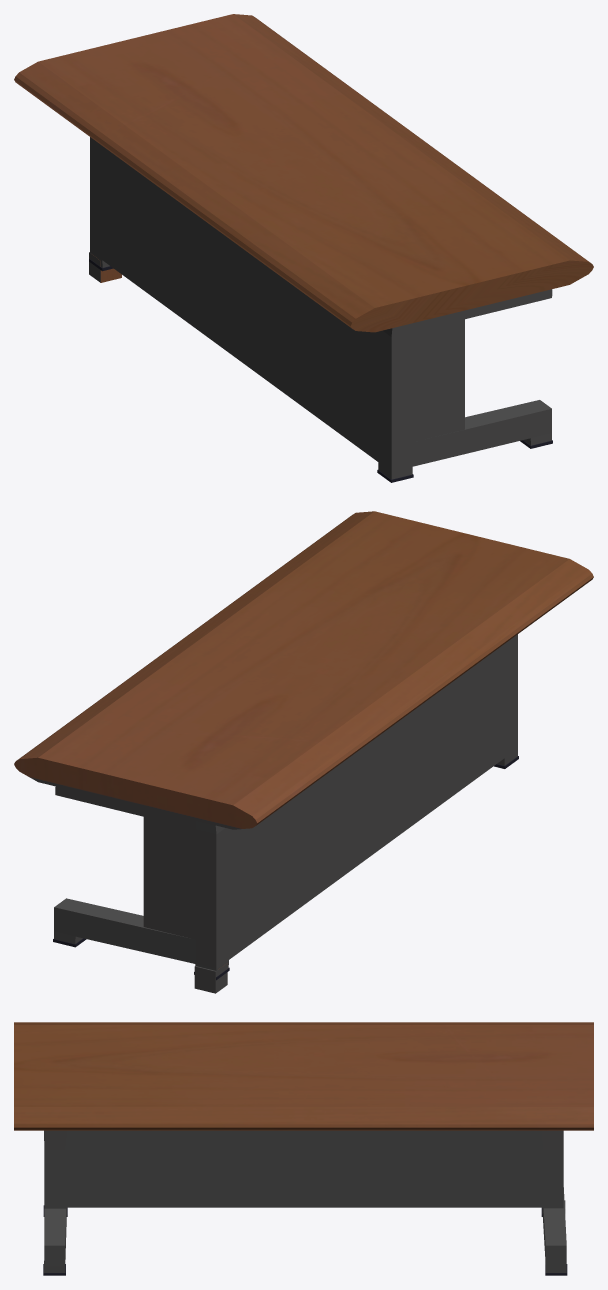
File: Table_wide.fbx
3 renders of one model, top to bottom at view 1: azimuth 30°, elevation 25°; view 2: azimuth 150°, elevation 25°; view 3: azimuth 270°, elevation 25°, orthographic. The views are drawn at different scales.
Visible parts, largest first — view 1: Cube.003; view 2: Cube.003; view 3: Cube.003.
Boxes of the visible parts, x1,y1,x2,y2 form: Cube.003: (14, 14, 593, 482); Cube.003: (14, 511, 593, 993); Cube.003: (14, 1022, 593, 1275).
Bounding box in the file's own units: 374 × 307 × 897.
1 material, 1 textured.
